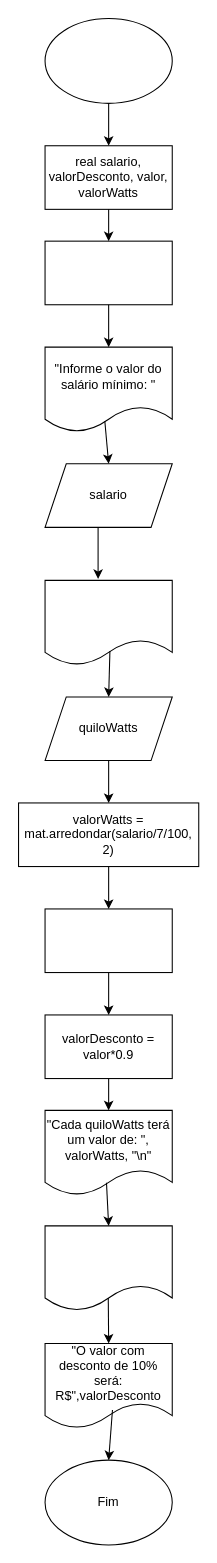
This 217x1563 diagram has some shape labels left out. Each missing label, with the centre of its shape:
"Informe quantos Watts foram gastos: ": pixel 108 622
"O total a ser pago será de: R$", valor,"\n": pixel 108 1268
Inicio: pixel 108 60
inteiro quilowatts: pixel 108 272
valor = valorWatts*quiloWatts: pixel 108 940
